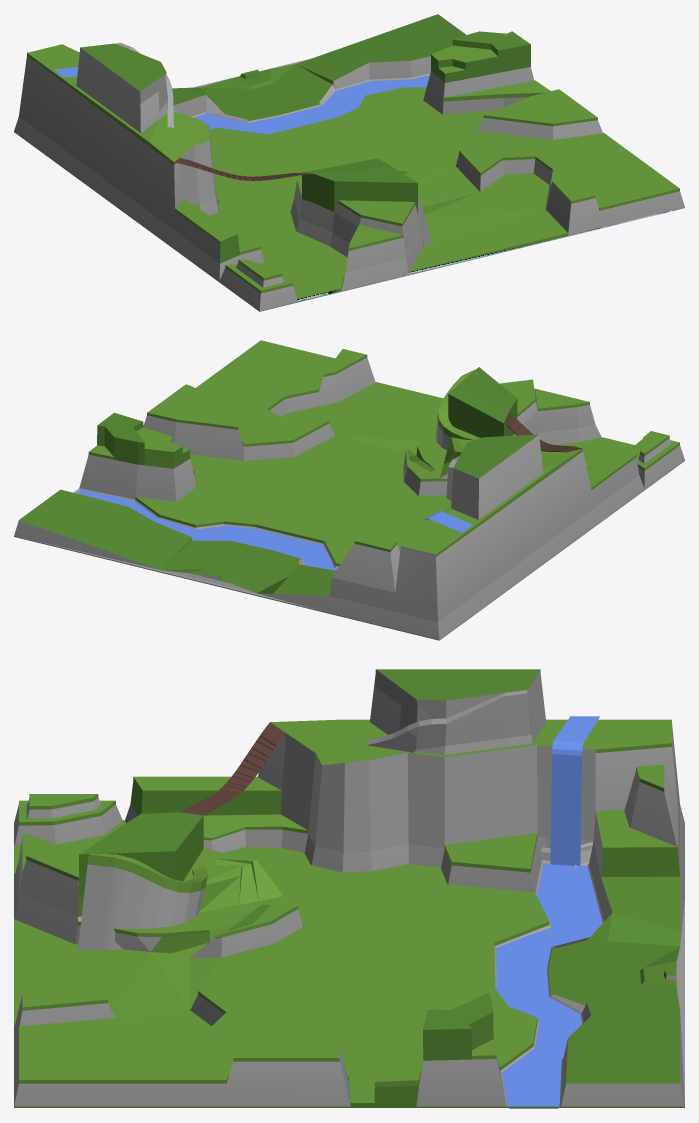
The model's file is Land.glb.
The picture shows the model from 3 angles, top to bottom: view 1: azimuth 30°, elevation 25°; view 2: azimuth 150°, elevation 25°; view 3: azimuth 270°, elevation 25°; orthographic projection. The views are drawn at different scales.
Visible parts, largest first — view 1: Level, Water; view 2: Level, Water; view 3: Level, Water.
Boxes of the visible parts, x1,y1,x2,y2 form: Level: [14, 14, 684, 311]; Water: [54, 67, 429, 134]; Level: [14, 340, 684, 640]; Water: [77, 490, 472, 570]; Level: [14, 669, 684, 1108]; Water: [496, 716, 602, 1106].
Bounding box in the file's own units: 200 × 68.6 × 200.
Materials: 1 (1 with a texture image).
